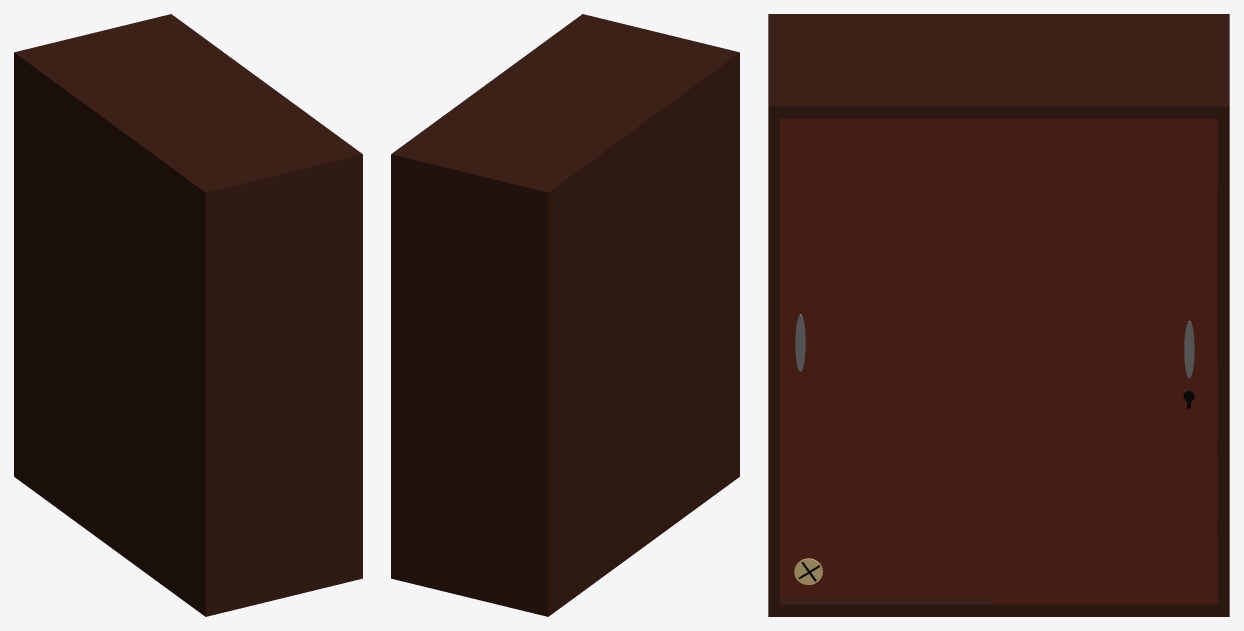
Rendered from cupboard_2.fbx.
The picture shows the model from 3 angles, left to right: view 1: azimuth 30°, elevation 25°; view 2: azimuth 150°, elevation 25°; view 3: azimuth 270°, elevation 25°; orthographic projection. The views are drawn at different scales.
Visible parts, largest first — view 1: Cube; view 2: Cube; view 3: Cube.006, Cube.005, Cube, Cylinder.002.
Boxes of the visible parts, x1,y1,x2,y2 form: Cube: (14, 14, 362, 616); Cube: (391, 14, 739, 616); Cube.006: (990, 118, 1217, 603); Cube.005: (779, 118, 989, 596); Cube: (768, 14, 1229, 616); Cylinder.002: (794, 558, 822, 584).
Size of the model in its own units: 383 by 979 by 801.
